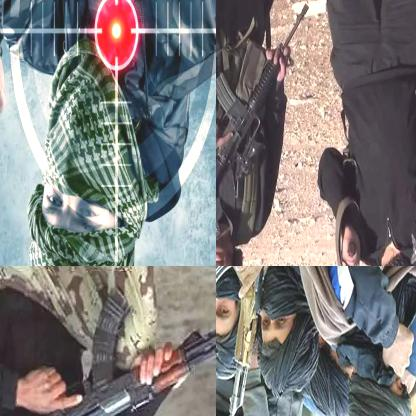rifle: (0, 286, 215, 415), (216, 3, 310, 211), (216, 266, 273, 415), (338, 237, 369, 265)
